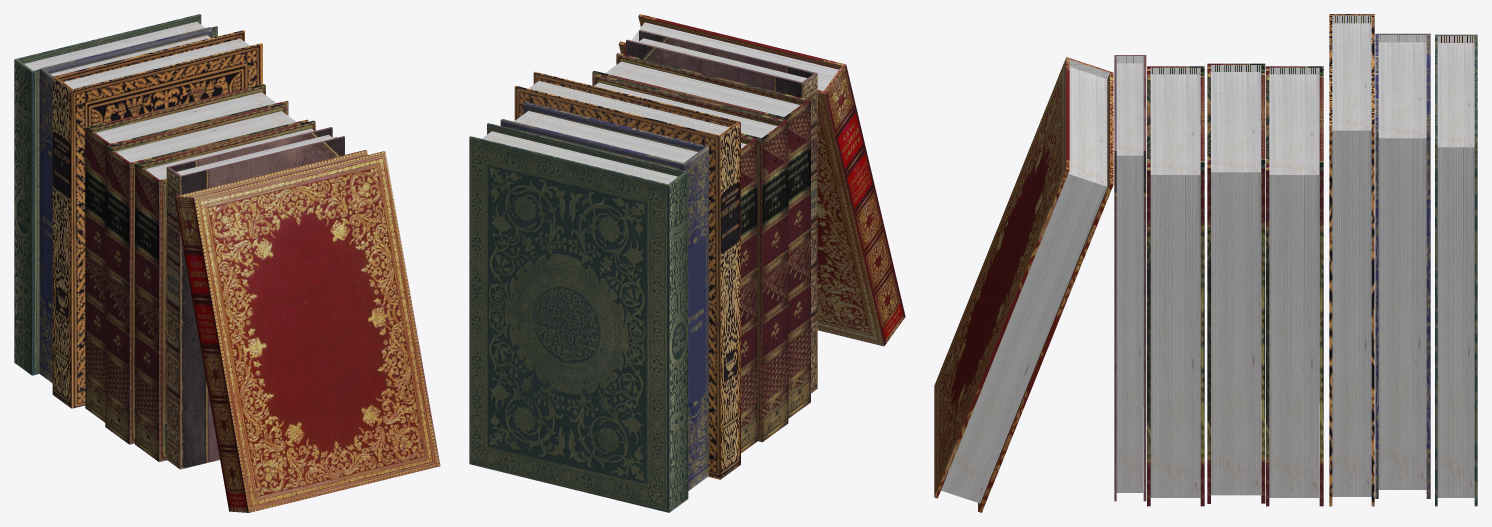
The model's file is Books 1.FBX.
3 views of the same model, side by side, from view 1: azimuth 30°, elevation 25°; view 2: azimuth 150°, elevation 25°; view 3: azimuth 270°, elevation 25° (orthographic). The views are drawn at different scales.
Parts seen in each view (by area): view 1: Book 4, Book 1, Book 3, Book 7, Book 2, Book 6, Book 8, Book 5; view 2: Book 6, Book 4, Book 1, Book 7, Book 5, Book 2, Book 3, Book 8; view 3: Book 4, Book 5, Book 7, Book 2, Book 8, Book 1, Book 6, Book 3.
Part boxes in pixels (x1,y1,x2,y2): Book 4: (174, 150, 440, 512); Book 1: (52, 30, 262, 408); Book 3: (166, 127, 344, 469); Book 7: (105, 103, 308, 444); Book 2: (135, 120, 336, 462); Book 6: (14, 14, 217, 375); Book 8: (85, 84, 288, 422); Book 5: (39, 27, 211, 383); Book 6: (469, 123, 688, 512); Book 4: (618, 14, 905, 346); Book 1: (514, 72, 740, 479); Book 7: (593, 74, 788, 442); Book 5: (500, 102, 708, 490); Book 2: (592, 53, 810, 418); Book 3: (626, 30, 817, 393); Book 8: (741, 135, 757, 453); Book 4: (934, 57, 1113, 512); Book 5: (1375, 33, 1430, 498); Book 7: (1207, 63, 1265, 503); Book 2: (1147, 66, 1204, 506); Book 8: (1266, 66, 1323, 506); Book 1: (1329, 14, 1374, 506); Book 6: (1435, 34, 1477, 506); Book 3: (1114, 55, 1146, 501).
Bounding box in the file's own units: 16.2 × 24.18 × 31.22.
Materials: 1 (1 with a texture image).
